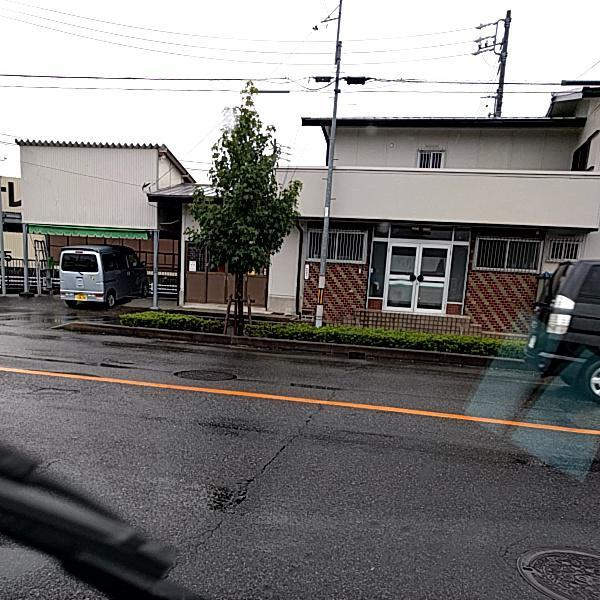D50: (508, 544, 599, 598), (173, 365, 240, 380)
